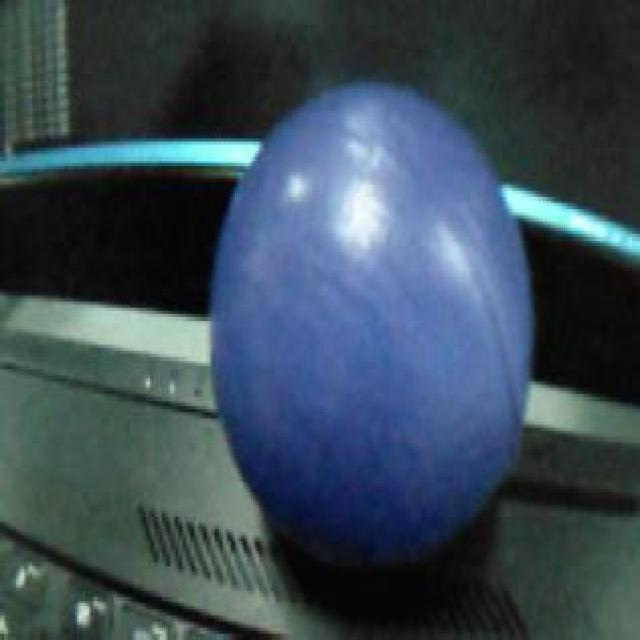BallPurple: (213, 78, 533, 553)
